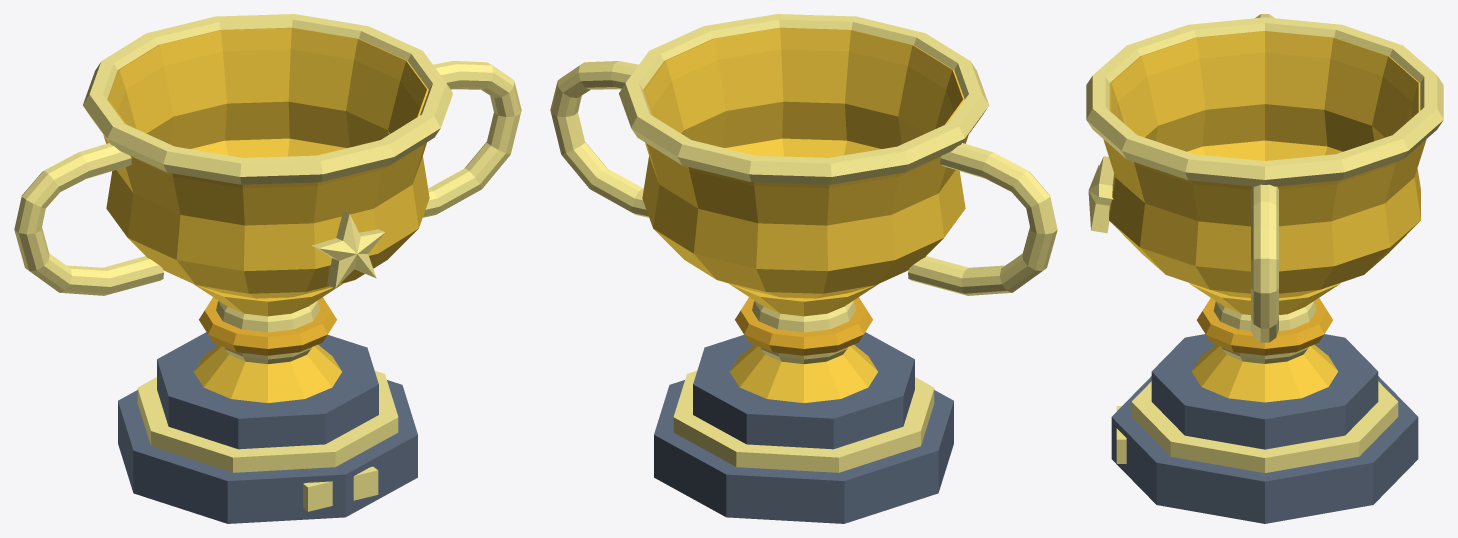
The model's file is trophy_cup_cartoon.glb.
3 views of the same model, side by side, from view 1: azimuth 30°, elevation 25°; view 2: azimuth 150°, elevation 25°; view 3: azimuth 270°, elevation 25° (orthographic).
Parts seen in each view (by area): view 1: Trophy_Cup; view 2: Trophy_Cup; view 3: Trophy_Cup.
Part boxes in pixels (x1,y1,x2,y2): Trophy_Cup: [14, 14, 521, 523]; Trophy_Cup: [550, 14, 1057, 523]; Trophy_Cup: [1086, 14, 1443, 523].
Bounding box in the file's own units: 1.72 × 1.21 × 1.07.
